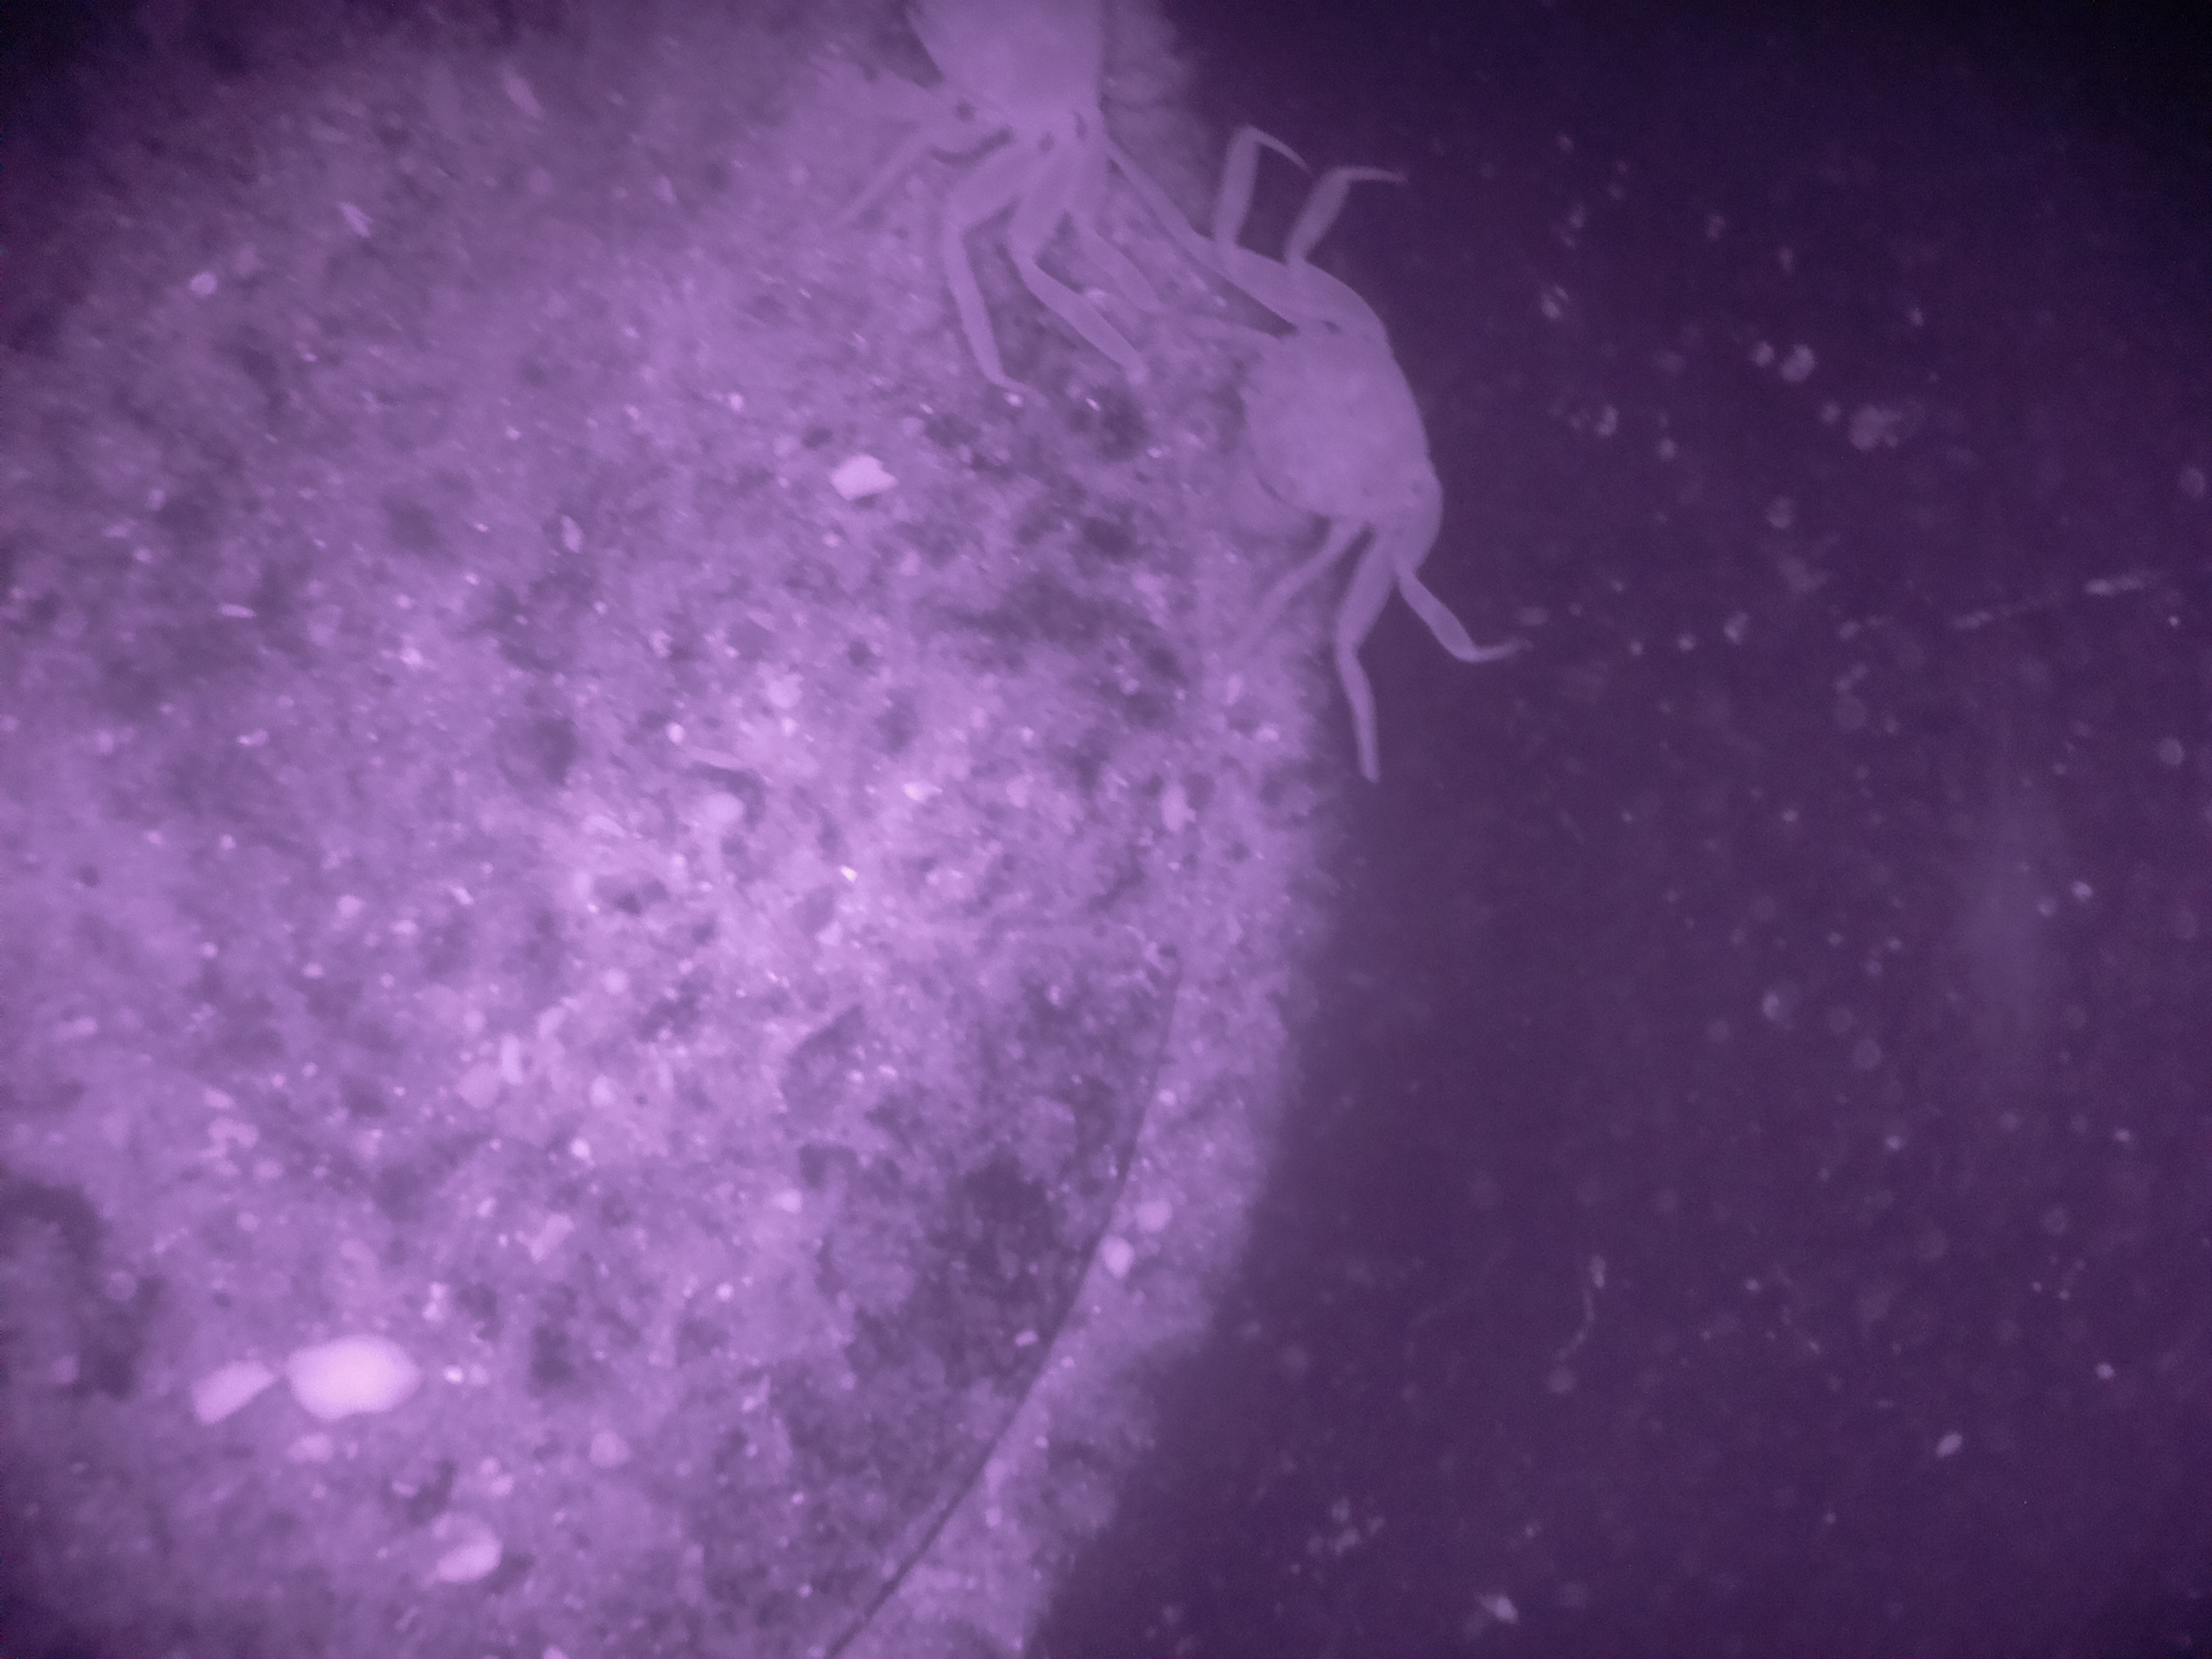Crab: (1115, 207, 1529, 650)
